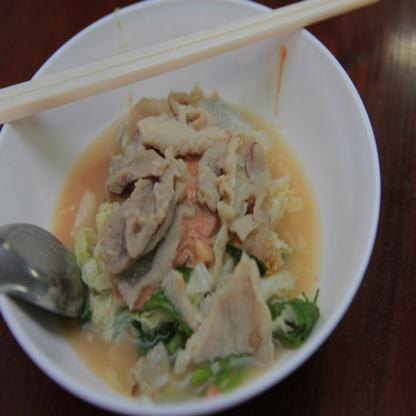Suki: (41, 77, 339, 413)
